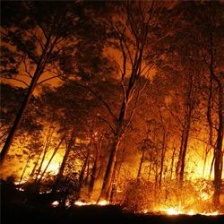fire: (14, 133, 224, 219)
